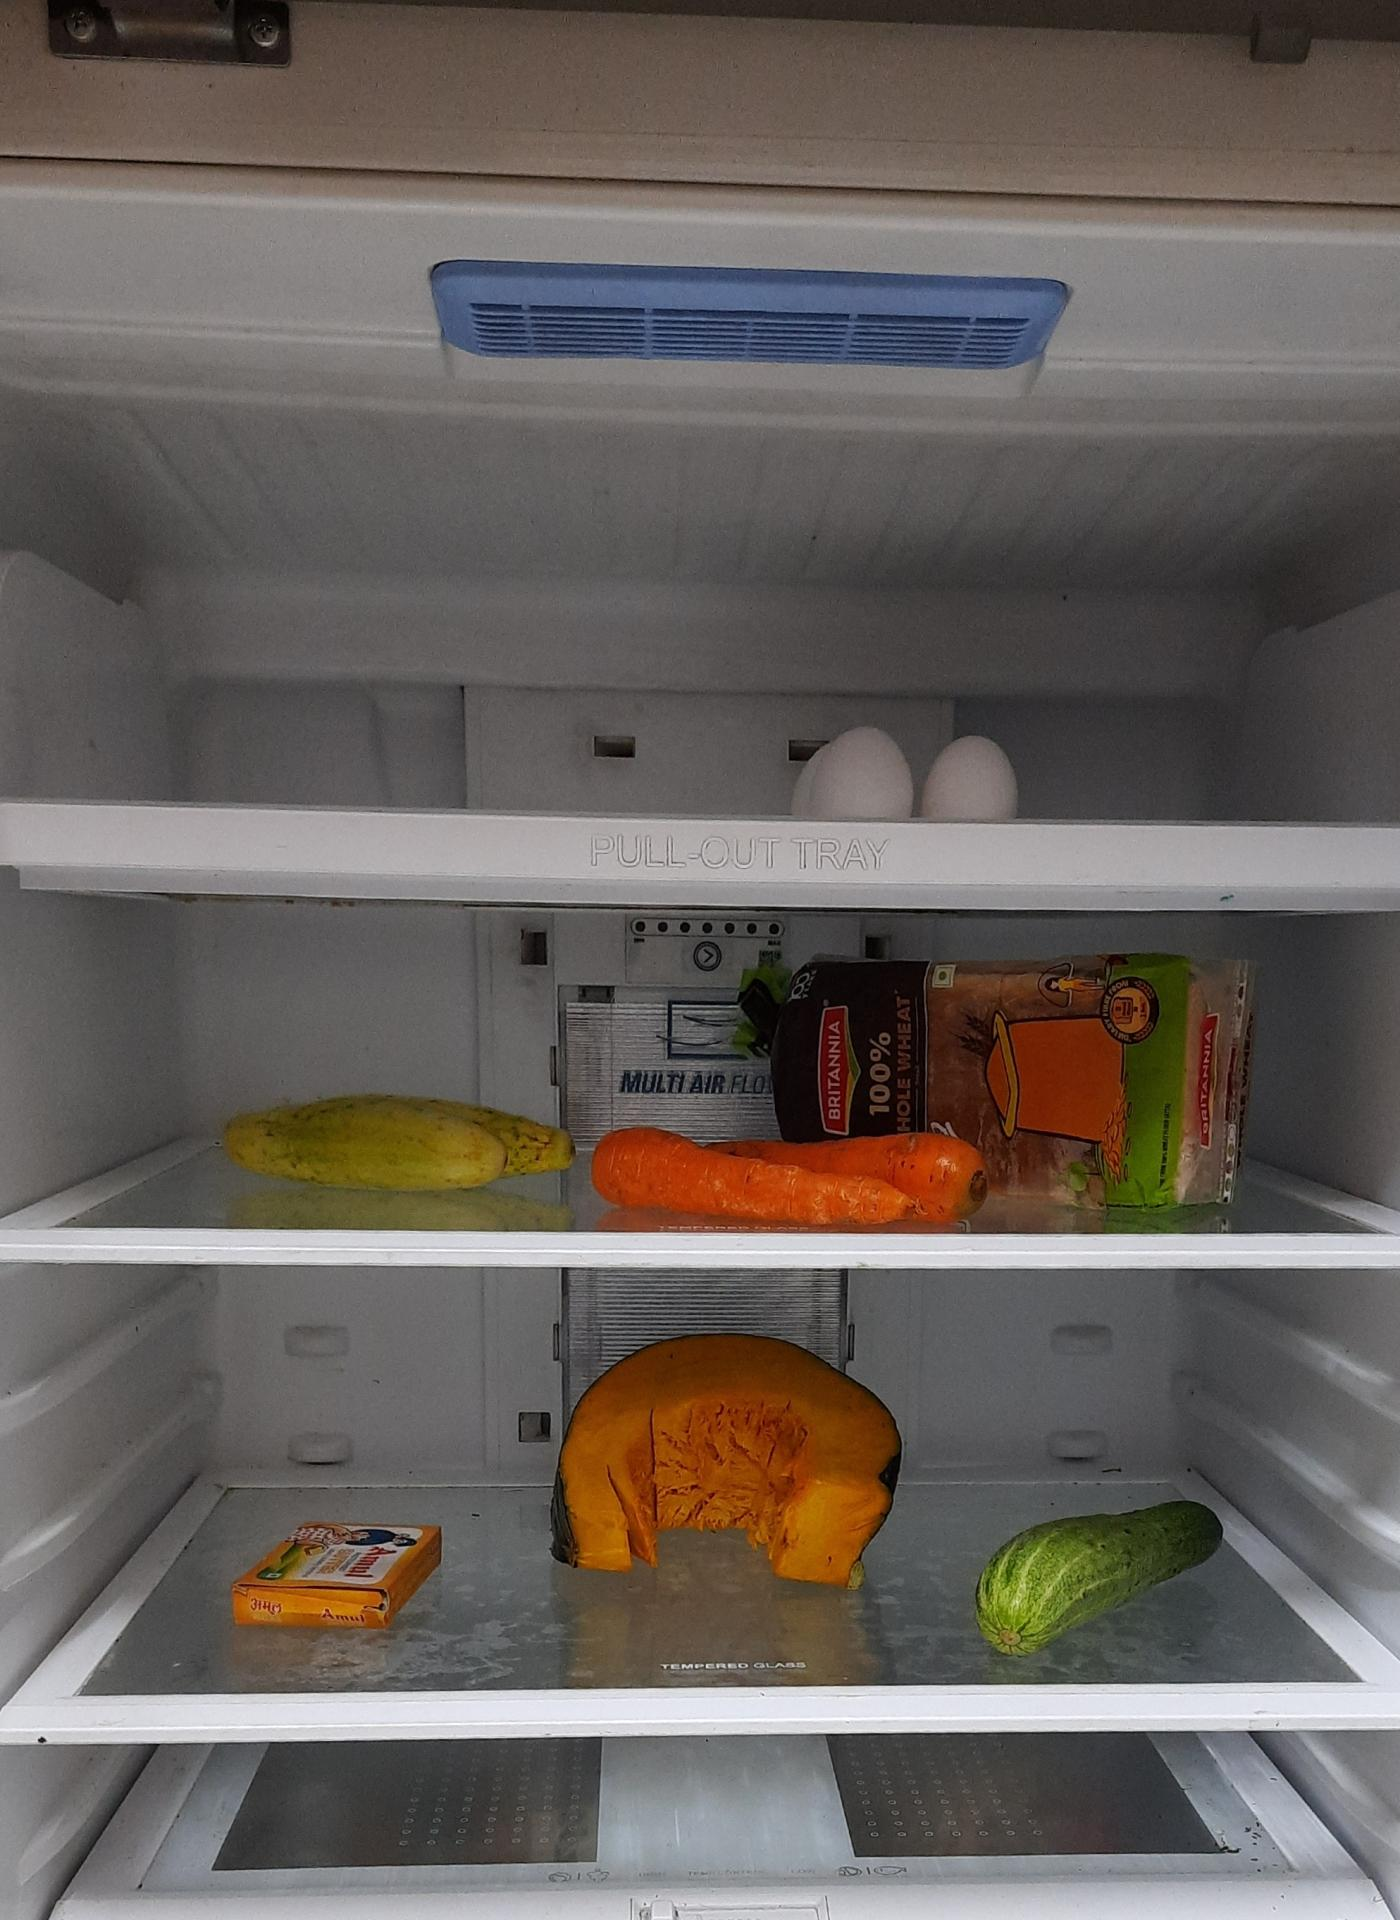bread: (754, 951, 1260, 1207)
butter: (230, 1516, 444, 1625)
carrots: (593, 1121, 980, 1209)
cucumber: (965, 1497, 1229, 1662), (222, 1097, 584, 1200)
egg: (796, 717, 1024, 817)
pumpkin: (552, 1336, 909, 1589)
